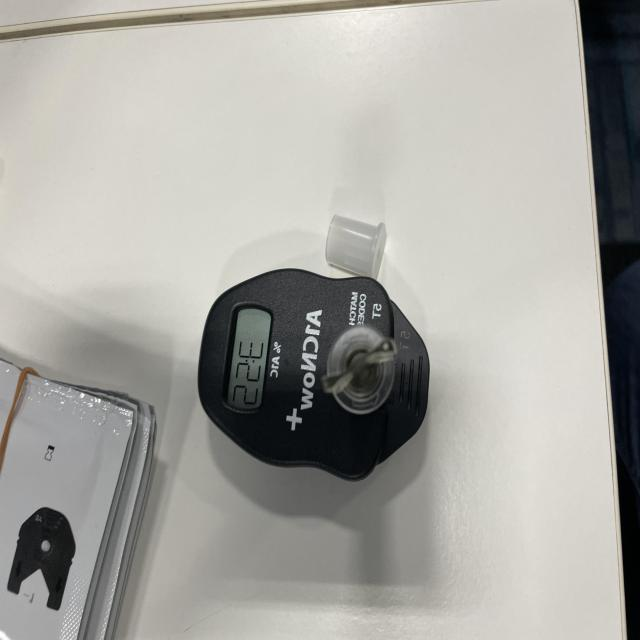hba1c: (196, 219, 430, 487)
